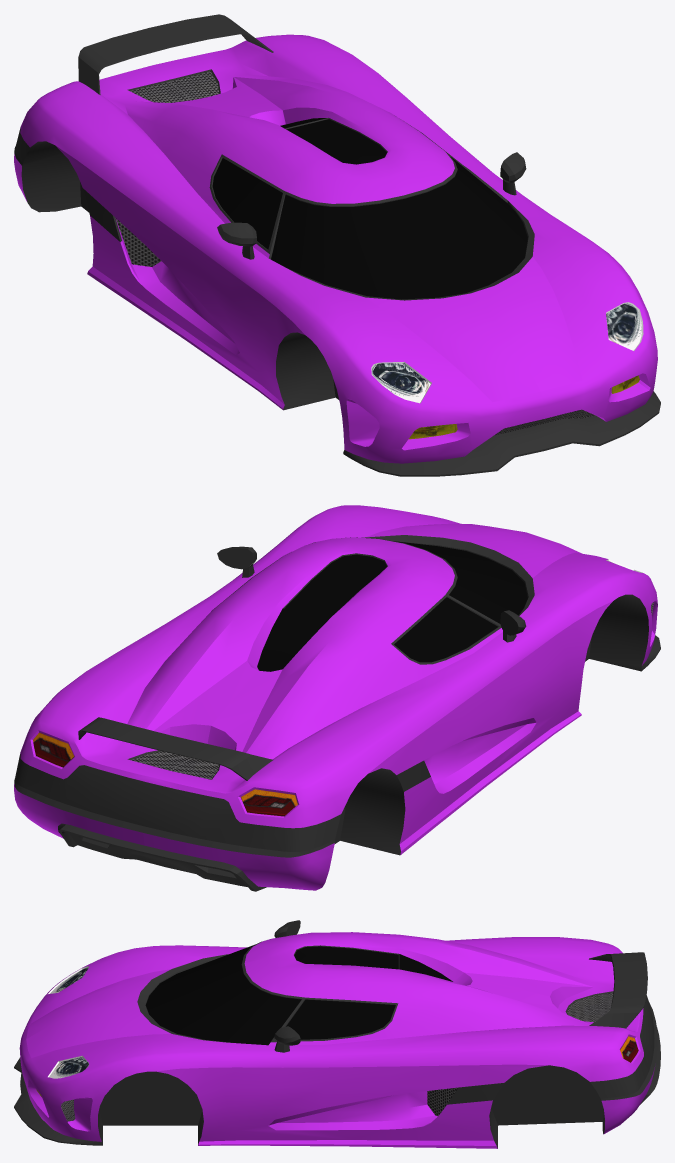
The model's file is Sports_3.fbx.
The picture shows the model from 3 angles, top to bottom: view 1: azimuth 30°, elevation 25°; view 2: azimuth 150°, elevation 25°; view 3: azimuth 270°, elevation 25°; orthographic projection. The views are drawn at different scales.
Visible parts, largest first — view 1: Sports_3; view 2: Sports_3; view 3: Sports_3.
Boxes of the visible parts, <box> form: Sports_3: <box>14,14,660,476</box>; Sports_3: <box>14,505,660,891</box>; Sports_3: <box>14,920,660,1148</box>.
Bounding box in the file's own units: 77.88 × 40.22 × 175.
Materials: 4 (2 with a texture image).
